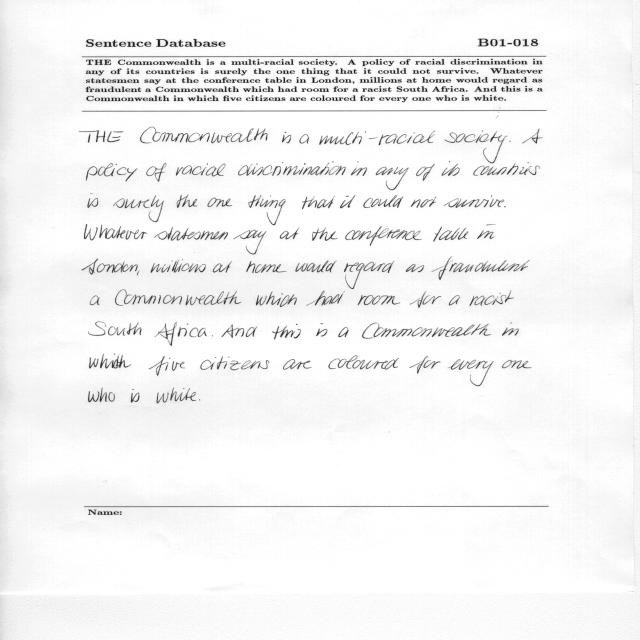word: (432, 257, 530, 280), (363, 323, 492, 339), (445, 131, 507, 164), (140, 127, 267, 143), (115, 290, 241, 306), (320, 131, 436, 145), (238, 161, 346, 176), (345, 226, 422, 246), (344, 261, 394, 289), (113, 196, 164, 223), (155, 322, 207, 346), (448, 359, 494, 386), (249, 195, 286, 225), (84, 224, 147, 241), (328, 355, 399, 370), (154, 227, 228, 241), (87, 163, 138, 182), (201, 357, 270, 371), (82, 258, 138, 275), (473, 162, 540, 176), (234, 230, 267, 255), (151, 259, 206, 273), (376, 167, 409, 190), (89, 322, 142, 336), (469, 290, 514, 306), (149, 356, 185, 376), (157, 388, 197, 404), (176, 164, 225, 177), (89, 354, 131, 369), (256, 292, 297, 307), (444, 198, 504, 208), (306, 291, 345, 306), (410, 356, 441, 374), (80, 131, 124, 143), (410, 291, 441, 308), (434, 227, 469, 242), (364, 195, 404, 208), (295, 261, 337, 273), (222, 324, 258, 338), (246, 261, 287, 273), (272, 324, 301, 339), (302, 196, 335, 209), (358, 295, 400, 305), (88, 388, 115, 403), (147, 163, 167, 182), (312, 227, 338, 241), (416, 164, 435, 181), (283, 359, 312, 370), (522, 129, 543, 144), (411, 197, 436, 208), (177, 195, 198, 208), (442, 161, 460, 176), (477, 224, 495, 239), (502, 360, 532, 369), (351, 161, 367, 176), (502, 322, 519, 336), (213, 261, 232, 273), (208, 198, 233, 207), (280, 228, 299, 239), (340, 196, 356, 209), (317, 323, 328, 337), (406, 264, 424, 272), (449, 295, 460, 306), (338, 327, 349, 337), (131, 389, 139, 402), (300, 134, 310, 144), (88, 198, 98, 208), (90, 296, 100, 306), (282, 132, 291, 143), (137, 270, 139, 276), (510, 140, 511, 142), (491, 195, 492, 197), (212, 336, 213, 337), (199, 400, 200, 401)
